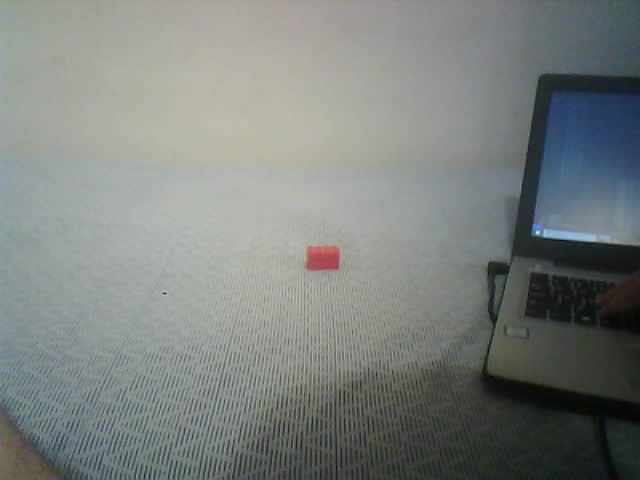lego: (306, 245, 340, 270)
